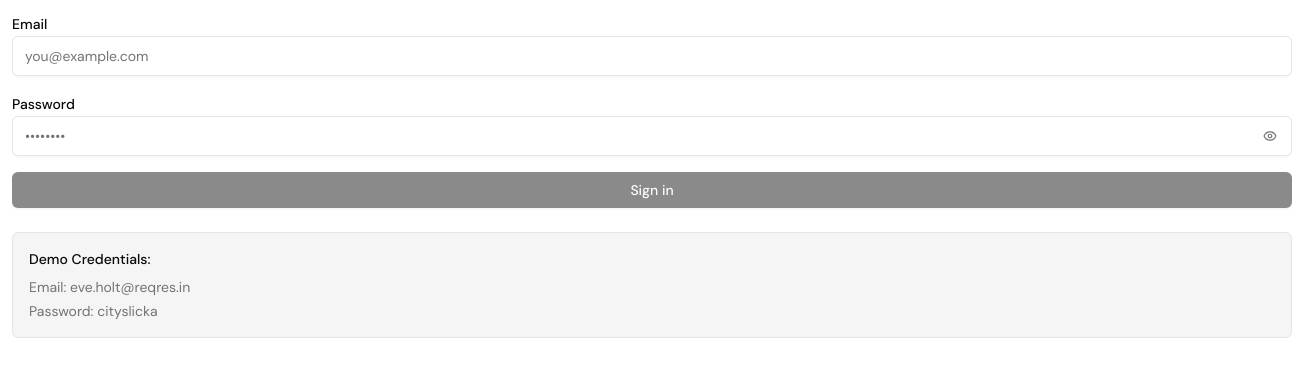
Test: LoginForm › email validation › shows an error message for an invalid email format
Type "not-an-email" into the field labelled "Email" at {"x": 652, "y": 56}, box left=13, top=38, right=1291, bottom=74
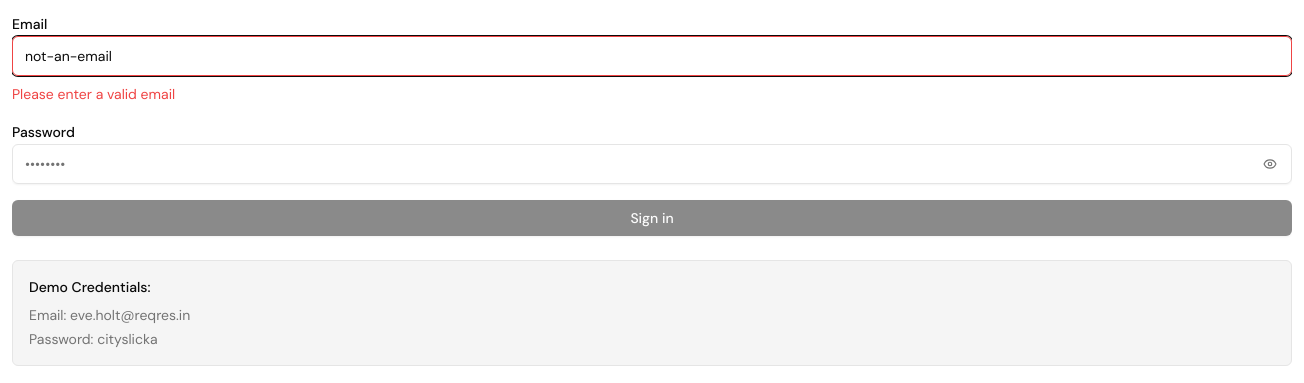
Now the text "Please enter a valid email" is shown, box left=12, top=85, right=175, bottom=103
